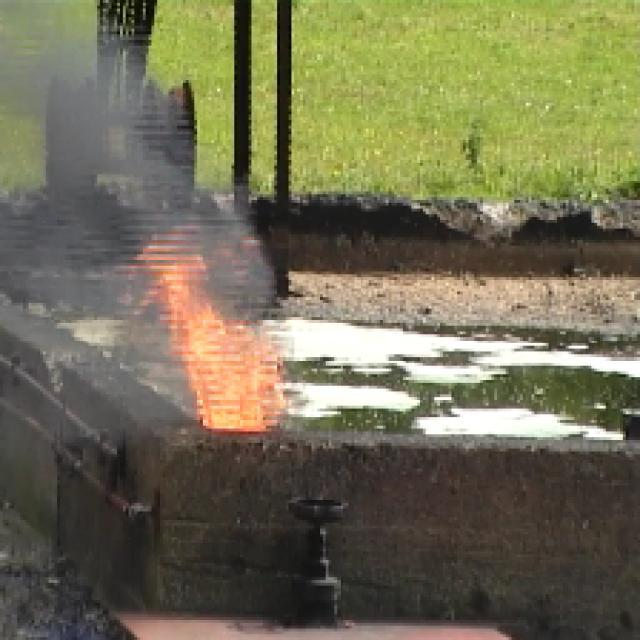Fire: (177, 320, 260, 435)
Smoke: (32, 100, 158, 290)
